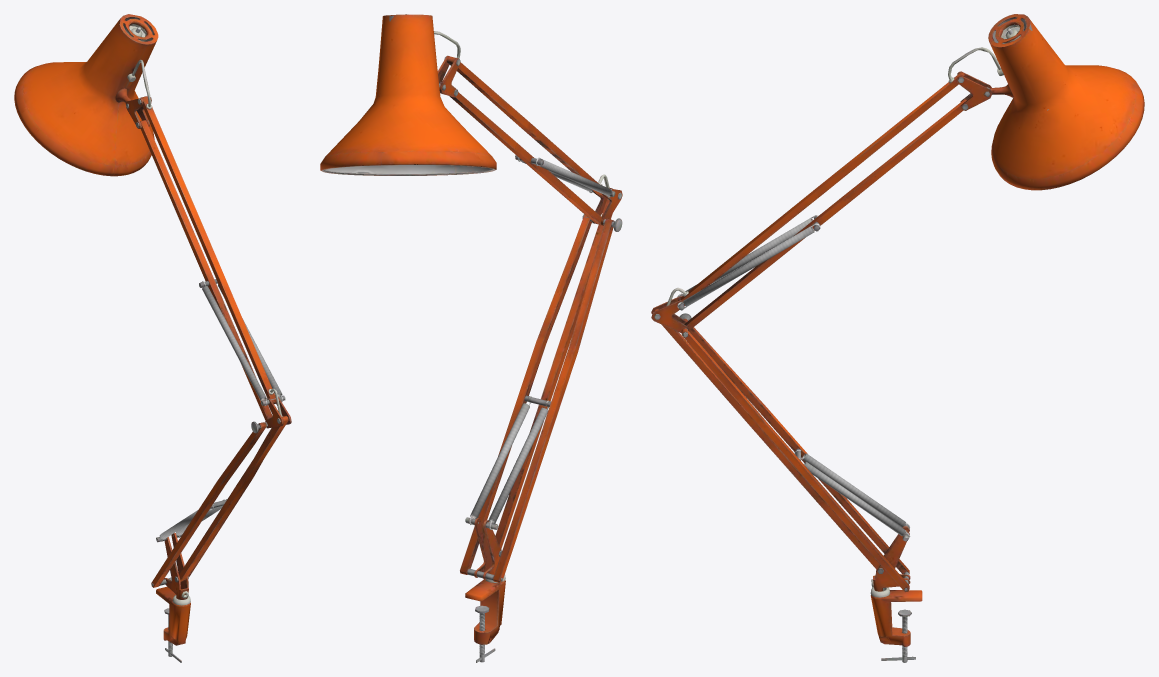
Rendered from desk_lamp.glb.
3 renders of one model, left to right at view 1: azimuth 30°, elevation 25°; view 2: azimuth 150°, elevation 25°; view 3: azimuth 270°, elevation 25°, orthographic. The views are drawn at different scales.
Visible parts, largest first — view 1: desk_lamp; view 2: desk_lamp; view 3: desk_lamp.
Part boxes in pixels (bbox=[...]): desk_lamp: bbox=[14, 14, 291, 662]; desk_lamp: bbox=[320, 14, 622, 662]; desk_lamp: bbox=[651, 14, 1144, 662].
Size of the model in its own units: 0.2017 by 0.8926 by 0.6139.
2 materials, 2 textured.
